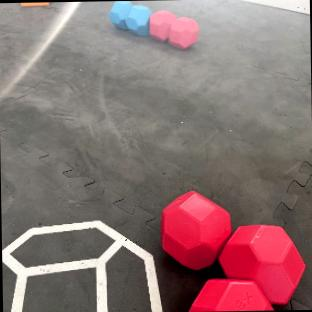V5_BLUE: (109, 1, 150, 34)
V5_RED: (191, 224, 302, 311), (160, 190, 229, 268), (150, 10, 198, 48)
pieces: (108, 0, 199, 50)
